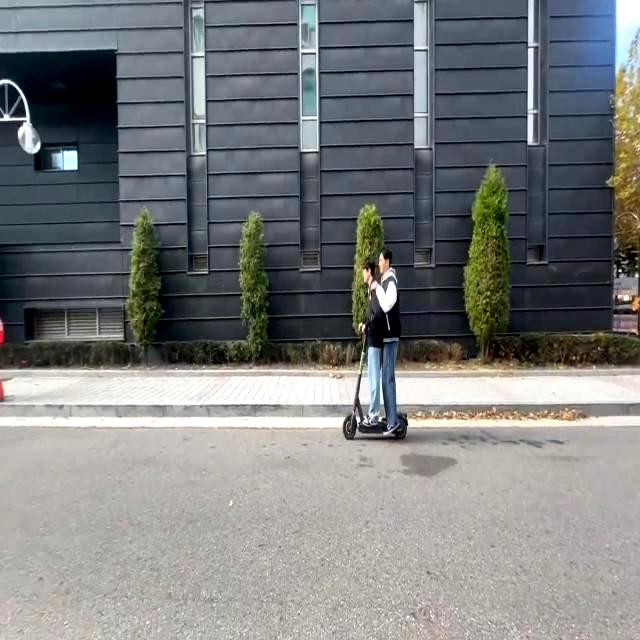bare_head: (354, 258, 374, 283), (375, 250, 392, 273)
human: (376, 247, 402, 434), (357, 258, 382, 424)
kickboard: (334, 406, 415, 442)
